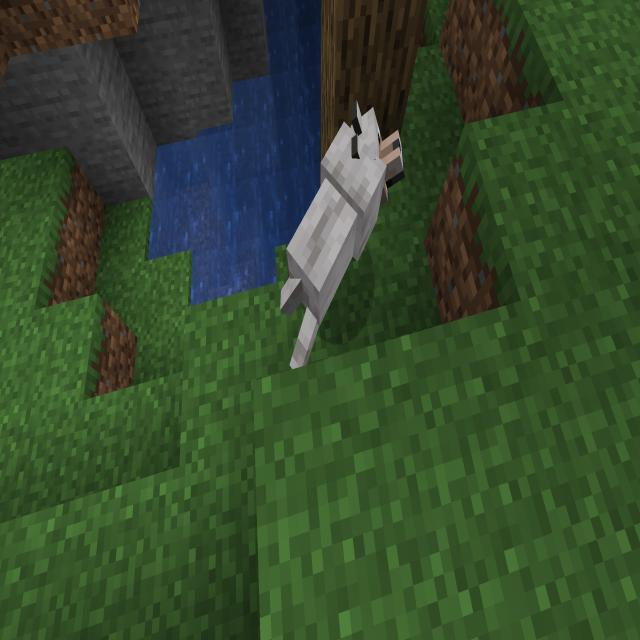Wolf: (274, 95, 412, 387)
